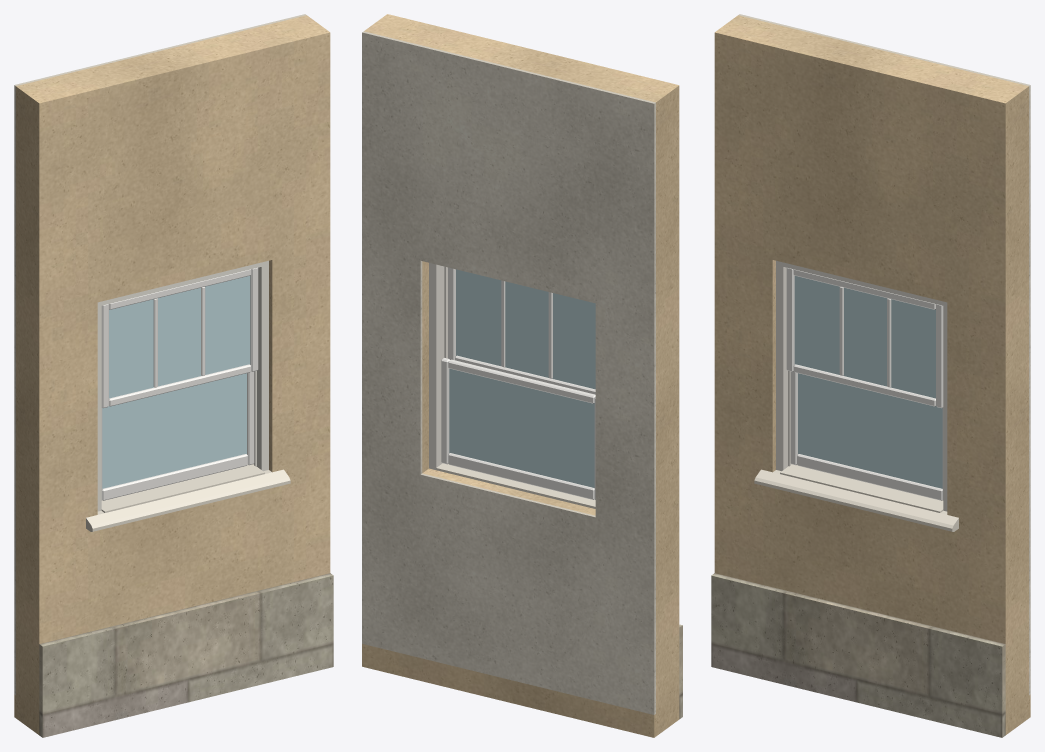
File: wall_render_window_ground.glb
3 views of the same model, side by side, from view 1: azimuth 30°, elevation 25°; view 2: azimuth 150°, elevation 25°; view 3: azimuth 330°, elevation 25° (orthographic).
Visible parts, largest first — view 1: wall_render_window_ground_render, wall_render_window_ground_stone, wall_render_window_ground_glass, wall_render_window_ground_sash, wall_render_window_ground_trim, wall_render_window_ground_frame, wall_render_window_ground_plaster; view 2: wall_render_window_ground_plaster, wall_render_window_ground_render, wall_render_window_ground_glass, wall_render_window_ground_sash, wall_render_window_ground_frame, wall_render_window_ground_trim; view 3: wall_render_window_ground_render, wall_render_window_ground_stone, wall_render_window_ground_glass, wall_render_window_ground_sash, wall_render_window_ground_trim, wall_render_window_ground_frame, wall_render_window_ground_plaster.
Boxes of the visible parts, x1,y1,x2,y2 form: wall_render_window_ground_render: [14, 15, 330, 734]; wall_render_window_ground_stone: [39, 573, 333, 737]; wall_render_window_ground_glass: [102, 276, 250, 488]; wall_render_window_ground_sash: [101, 267, 258, 500]; wall_render_window_ground_trim: [86, 464, 290, 531]; wall_render_window_ground_frame: [97, 260, 268, 511]; wall_render_window_ground_plaster: [14, 14, 306, 695]; wall_render_window_ground_plaster: [362, 31, 655, 714]; wall_render_window_ground_render: [362, 14, 679, 737]; wall_render_window_ground_glass: [449, 269, 595, 487]; wall_render_window_ground_sash: [441, 267, 595, 499]; wall_render_window_ground_frame: [429, 263, 447, 469]; wall_render_window_ground_trim: [436, 463, 595, 508]; wall_render_window_ground_render: [714, 15, 1030, 734]; wall_render_window_ground_stone: [711, 573, 1005, 737]; wall_render_window_ground_glass: [794, 276, 942, 488]; wall_render_window_ground_sash: [786, 267, 943, 500]; wall_render_window_ground_trim: [754, 464, 958, 531]; wall_render_window_ground_frame: [776, 260, 947, 511]; wall_render_window_ground_plaster: [738, 14, 1030, 695].
Size of the model in its own units: 2 by 4.15 by 0.38.
7 materials, 3 textured.
